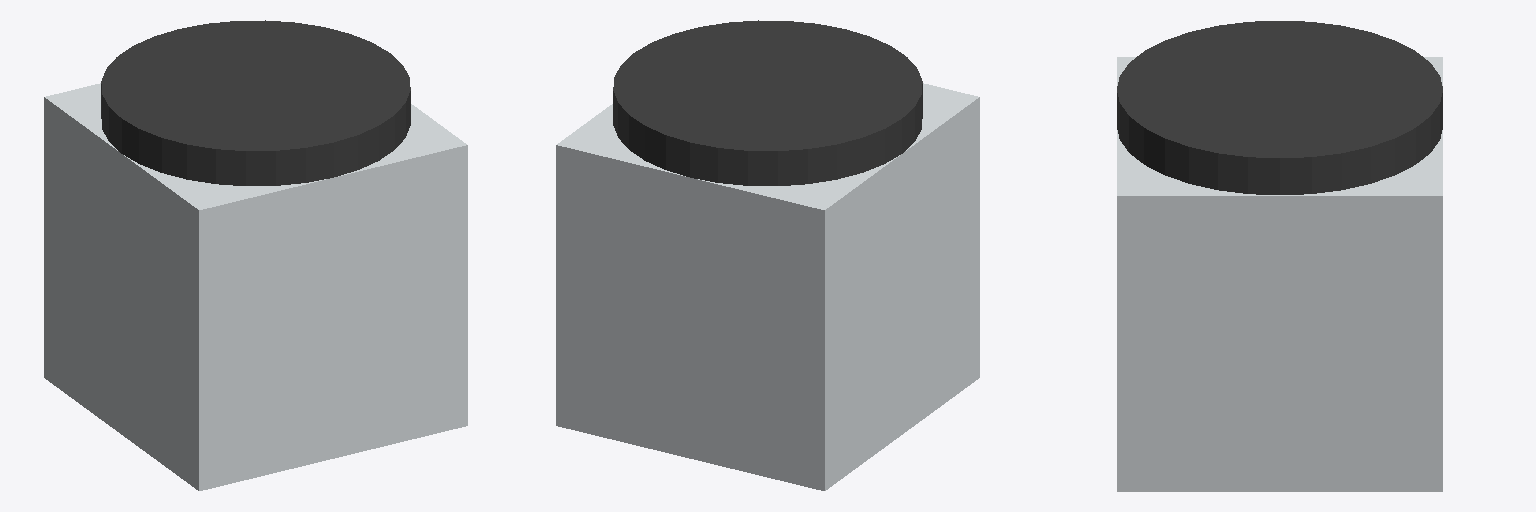
robot.urdf — arm:
<?xml version="1.0" encoding="utf-8"?>
<!-- This URDF was automatically created by SolidWorks to URDF Exporter! Originally created by [author] ([email redacted]) 
     Commit Version: 1.6.0-4-g7f85cfe  Build Version: 1.6.7995.38578
     For more information, please see http://wiki.ros.org/sw_urdf_exporter -->
<robot
  name="arm">
  <link
    name="base_link">
    <visual>
      <origin
        xyz="0 0 0"
        rpy="0 0 0" />
      <geometry>
        <box size="2 2 2" />
      </geometry>
      <material
        name="">
        <color
          rgba="0.898039215686275 0.917647058823529 0.929411764705882 1" />
      </material>
    </visual>
  </link>
  <link
    name="link1">
    <visual>
      <origin
        xyz="0 0 0"
        rpy="0 0 0" />
      <geometry>
        <cylinder radius="1" length="0.5"/>
      </geometry>
      <material
        name="">
        <color
          rgba="0.298039215686275 0.298039215686275 0.298039215686275 1" />
      </material>
    </visual>
  </link>
  <joint
    name="joint1"
    type="continuous">
    <origin
      xyz="0 0 1"
      rpy="0 0 0" />
    <parent
      link="base_link" />
    <child
      link="link1" />
    <axis
      xyz="0 0 1" />
  </joint>
  <!-- <link
    name="link2">
    <inertial>
      <origin
        xyz="-0.0673676204144748 -0.0227999999999996 1.52655665885959E-16"
        rpy="0 0 0" />
      <mass
        value="0.0538438117267846" />
      <inertia
        ixx="3.91939181590137E-06"
        ixy="2.05040921688493E-21"
        ixz="5.15783507873765E-19"
        iyy="0.00012782014857789"
        iyz="5.13327241807089E-21"
        izz="0.000123981522479579" />
    </inertial>
    <visual>
      <origin
        xyz="0 0 0"
        rpy="0 0 0" />
      <geometry>
        <mesh
          filename="package://urdf_control_arm/meshes/link2.STL" />
      </geometry>
      <material
        name="">
        <color
          rgba="0.298039215686275 0.298039215686275 0.298039215686275 1" />
      </material>
    </visual>
    <collision>
      <origin
        xyz="0 0 0"
        rpy="0 0 0" />
      <geometry>
        <mesh
          filename="package://urdf_control_arm/meshes/link2.STL" />
      </geometry>
    </collision>
  </link>
  <joint
    name="joint2"
    type="fixed">
    <origin
      xyz="-0.192016669750803 0 -0.0358327204326333"
      rpy="3.14159265358979 0.0123247882232276 3.14159265358979" />
    <parent
      link="link1" />
    <child
      link="link2" />
    <axis
      xyz="0 0 0" />
  </joint>
  <link
    name="link3">
    <inertial>
      <origin
        xyz="-0.0155968087940944 -0.0227700212036444 -0.010434686550014"
        rpy="0 0 0" />
      <mass
        value="0.0692620585470794" />
      <inertia
        ixx="1.17064344223662E-05"
        ixy="3.92390234029933E-08"
        ixz="-1.75533296343905E-07"
        iyy="1.14358954522364E-05"
        iyz="1.01793251778908E-09"
        izz="1.84682970090164E-05" />
    </inertial>
    <visual>
      <origin
        xyz="0 0 0"
        rpy="0 0 0" />
      <geometry>
        <mesh
          filename="package://urdf_control_arm/meshes/link3.STL" />
      </geometry>
      <material
        name="">
        <color
          rgba="0.298039215686275 0.298039215686275 0.298039215686275 1" />
      </material>
    </visual>
    <collision>
      <origin
        xyz="0 0 0"
        rpy="0 0 0" />
      <geometry>
        <mesh
          filename="package://urdf_control_arm/meshes/link3.STL" />
      </geometry>
    </collision>
  </link>
  <joint
    name="joint3"
    type="fixed">
    <origin
      xyz="-0.14 -0.0455999999999996 0"
      rpy="-3.14159265358979 0 0" />
    <parent
      link="link2" />
    <child
      link="link3" />
    <axis
      xyz="0 0 0" />
  </joint>
  <link
    name="link4">
    <inertial>
      <origin
        xyz="-2.32710015607741E-05 0.0119209248746 -0.00769983529452291"
        rpy="0 0 0" />
      <mass
        value="0.0409780706300096" />
      <inertia
        ixx="7.17693454798754E-06"
        ixy="5.22236315072449E-09"
        ixz="-3.53466756714768E-08"
        iyy="1.20222456499346E-05"
        iyz="-1.61296230963784E-07"
        izz="7.90882118956884E-06" />
    </inertial>
    <visual>
      <origin
        xyz="0 0 0"
        rpy="0 0 0" />
      <geometry>
        <mesh
          filename="package://urdf_control_arm/meshes/link4.STL" />
      </geometry>
      <material
        name="">
        <color
          rgba="1 1 1 1" />
      </material>
    </visual>
    <collision>
      <origin
        xyz="0 0 0"
        rpy="0 0 0" />
      <geometry>
        <mesh
          filename="package://urdf_control_arm/meshes/link4.STL" />
      </geometry>
    </collision>
  </link>
  <joint
    name="joint4"
    type="fixed">
    <origin
      xyz="-0.0477932279381449 -0.0128064310648106 -0.0240173937742402"
      rpy="-0.0259371763528233 -0.00942454291293869 1.57104082403284" />
    <parent
      link="link3" />
    <child
      link="link4" />
    <axis
      xyz="0 0 0" />
  </joint>
  <link
    name="link5">
    <inertial>
      <origin
        xyz="-6.90315758842283E-05 0.0185135103478107 -6.67224774364428E-05"
        rpy="0 0 0" />
      <mass
        value="0.0366230967693051" />
      <inertia
        ixx="5.97642065709567E-06"
        ixy="-2.76956956367271E-10"
        ixz="1.79216409585139E-09"
        iyy="1.00617294439248E-05"
        iyz="-6.83713991812404E-09"
        izz="6.33309751282362E-06" />
    </inertial>
    <visual>
      <origin
        xyz="0 0 0"
        rpy="0 0 0" />
      <geometry>
        <mesh
          filename="package://urdf_control_arm/meshes/link5.STL" />
      </geometry>
      <material
        name="">
        <color
          rgba="0.298039215686275 0.298039215686275 0.298039215686275 1" />
      </material>
    </visual>
    <collision>
      <origin
        xyz="0 0 0"
        rpy="0 0 0" />
      <geometry>
        <mesh
          filename="package://urdf_control_arm/meshes/link5.STL" />
      </geometry>
    </collision>
  </link>
  <joint
    name="joint5"
    type="fixed">
    <origin
      xyz="-0.00997 0.013199999999998 -0.0324000000000008"
      rpy="-1.57079632679483 0 -3.04133909398124" />
    <parent
      link="link4" />
    <child
      link="link5" />
    <axis
      xyz="0 0 0" />
  </joint>
  <link
    name="link6">
    <inertial>
      <origin
        xyz="0.00448513361665756 0.0176005994190371 0.00594759101106926"
        rpy="0 0 0" />
      <mass
        value="0.0106748612946697" />
      <inertia
        ixx="2.54888987230047E-06"
        ixy="9.28161169461107E-08"
        ixz="3.97296025187969E-14"
        iyy="2.44171514508945E-06"
        iyz="5.56039159469918E-15"
        izz="3.55862075124143E-07" />
    </inertial>
    <visual>
      <origin
        xyz="0 0 0"
        rpy="0 0 0" />
      <geometry>
        <mesh
          filename="package://urdf_control_arm/meshes/link6.STL" />
      </geometry>
      <material
        name="">
        <color
          rgba="1 1 1 1" />
      </material>
    </visual>
    <collision>
      <origin
        xyz="0 0 0"
        rpy="0 0 0" />
      <geometry>
        <mesh
          filename="package://urdf_control_arm/meshes/link6.STL" />
      </geometry>
    </collision>
  </link>
  <joint
    name="joint6"
    type="fixed">
    <origin
      xyz="0.0114632777855543 0.0400028441067219 -0.030405751032087"
      rpy="-0.247444244668487 -0.186768794681046 2.63503698813776" />
    <parent
      link="link5" />
    <child
      link="link6" />
    <axis
      xyz="0 0 0" />
  </joint> -->
</robot>

--- What the picture shows (computed from the rendered views, not written in the file) ---
The picture shows the robot from 3 angles, left to right: view 1: azimuth 30°, elevation 25°; view 2: azimuth 150°, elevation 25°; view 3: azimuth 270°, elevation 25°; orthographic projection.
Robot: arm — 2 links, 1 joints (1 continuous); root link base_link; default pose: all joints at 0.
Visible links, largest first — view 1: base_link, link1; view 2: base_link, link1; view 3: base_link, link1.
Boxes of the visible links, x1,y1,x2,y2 form: base_link: [44, 83, 467, 490]; link1: [101, 20, 410, 185]; base_link: [556, 83, 979, 490]; link1: [613, 20, 922, 185]; base_link: [1117, 57, 1442, 491]; link1: [1117, 21, 1442, 194].
Size in the robot's own frame: 2 by 2 by 2.25 metres.
Geometry: primitives only (box / cylinder / sphere), no mesh files.